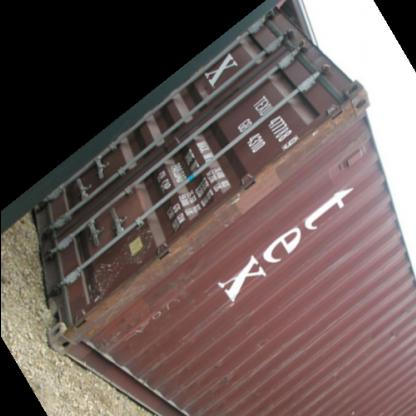Damage: (76, 204, 238, 320), (289, 102, 360, 161), (197, 358, 243, 408), (325, 362, 361, 412), (364, 324, 406, 353), (251, 332, 275, 354)
